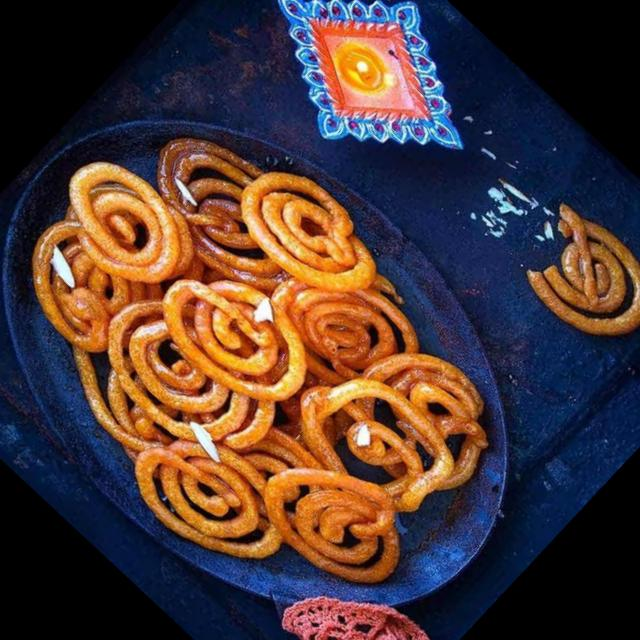jalebi: (0, 45, 557, 640), (494, 189, 640, 364)
